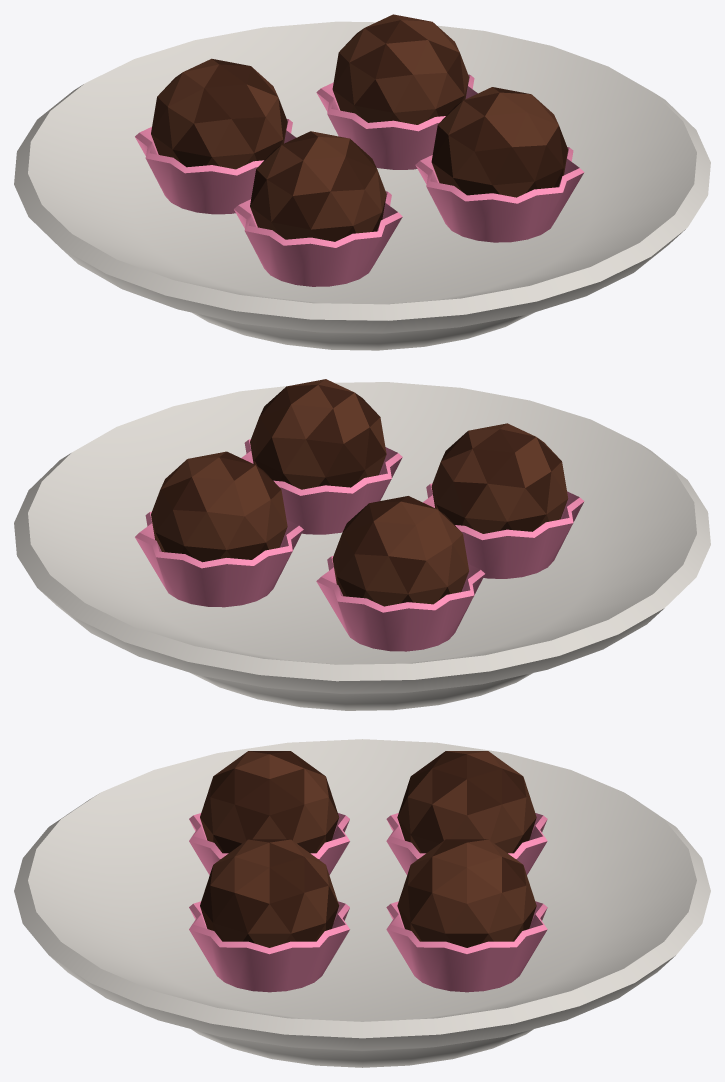
Rendered from brigadeiro.glb.
The picture shows the model from 3 angles, top to bottom: view 1: azimuth 30°, elevation 25°; view 2: azimuth 150°, elevation 25°; view 3: azimuth 270°, elevation 25°; orthographic projection.
Parts seen in each view (by area): view 1: brigadeiro; view 2: brigadeiro; view 3: brigadeiro.
Part boxes in pixels (x1,y1,x2,y2): brigadeiro: [14, 14, 710, 350]; brigadeiro: [14, 379, 710, 710]; brigadeiro: [14, 739, 710, 1067].
Bounding box in the file's own units: 0.3 × 0.086 × 0.3.
